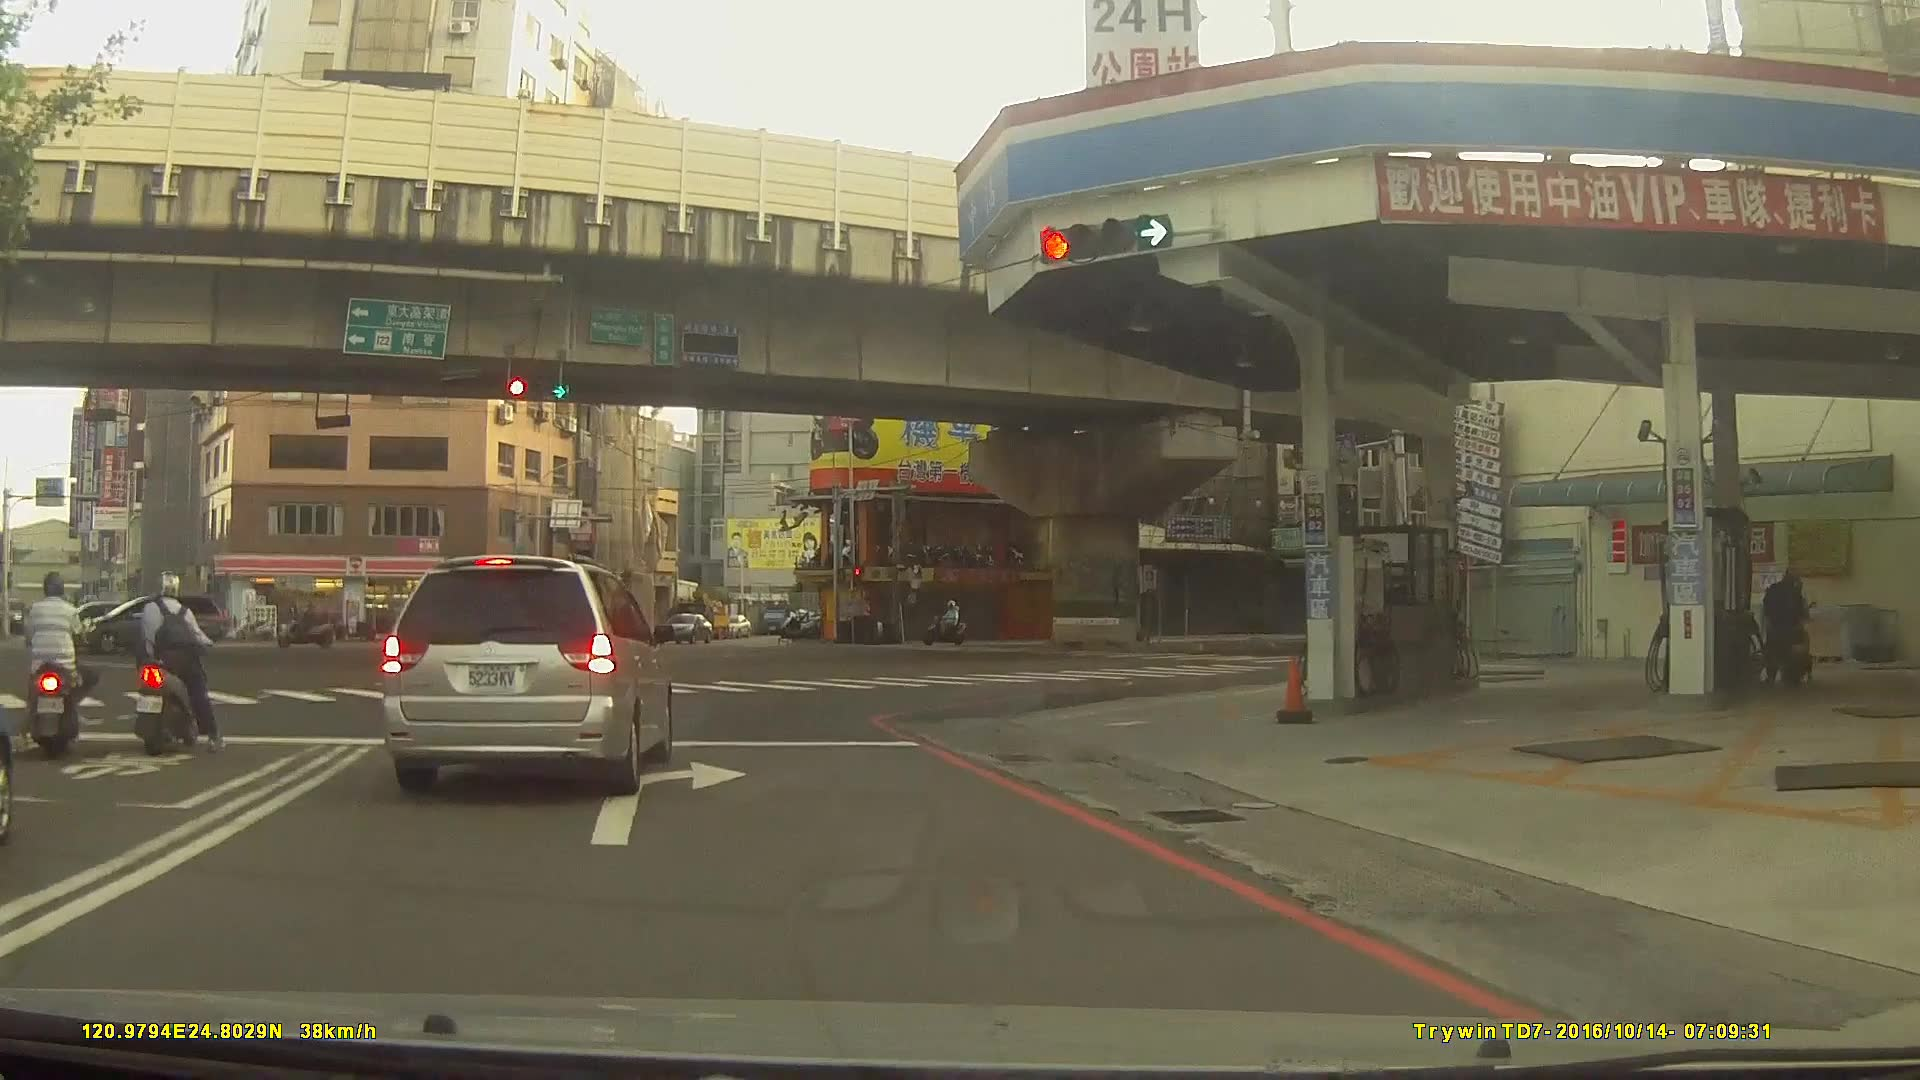rider: (132, 575, 226, 754), (12, 575, 88, 755), (272, 595, 343, 651), (926, 601, 966, 645)
vehicle: (379, 554, 676, 794), (69, 592, 224, 652), (663, 611, 717, 643), (543, 606, 605, 633)
